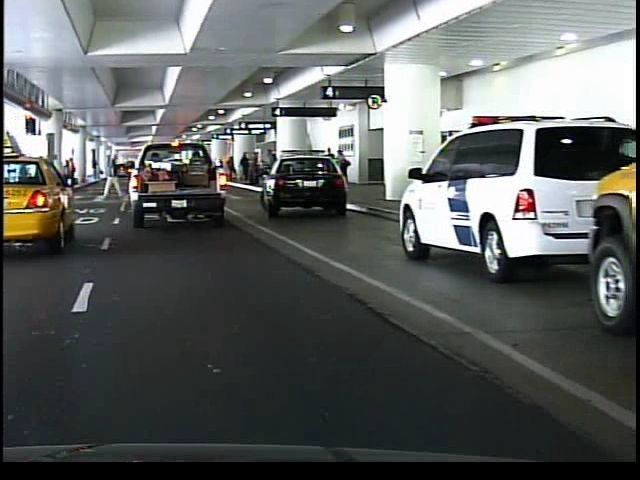person: (97, 152, 123, 201)
